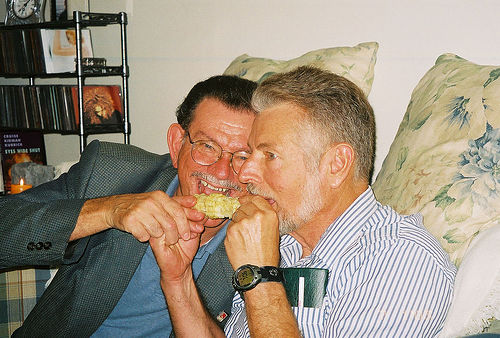corn: (190, 193, 242, 218)
